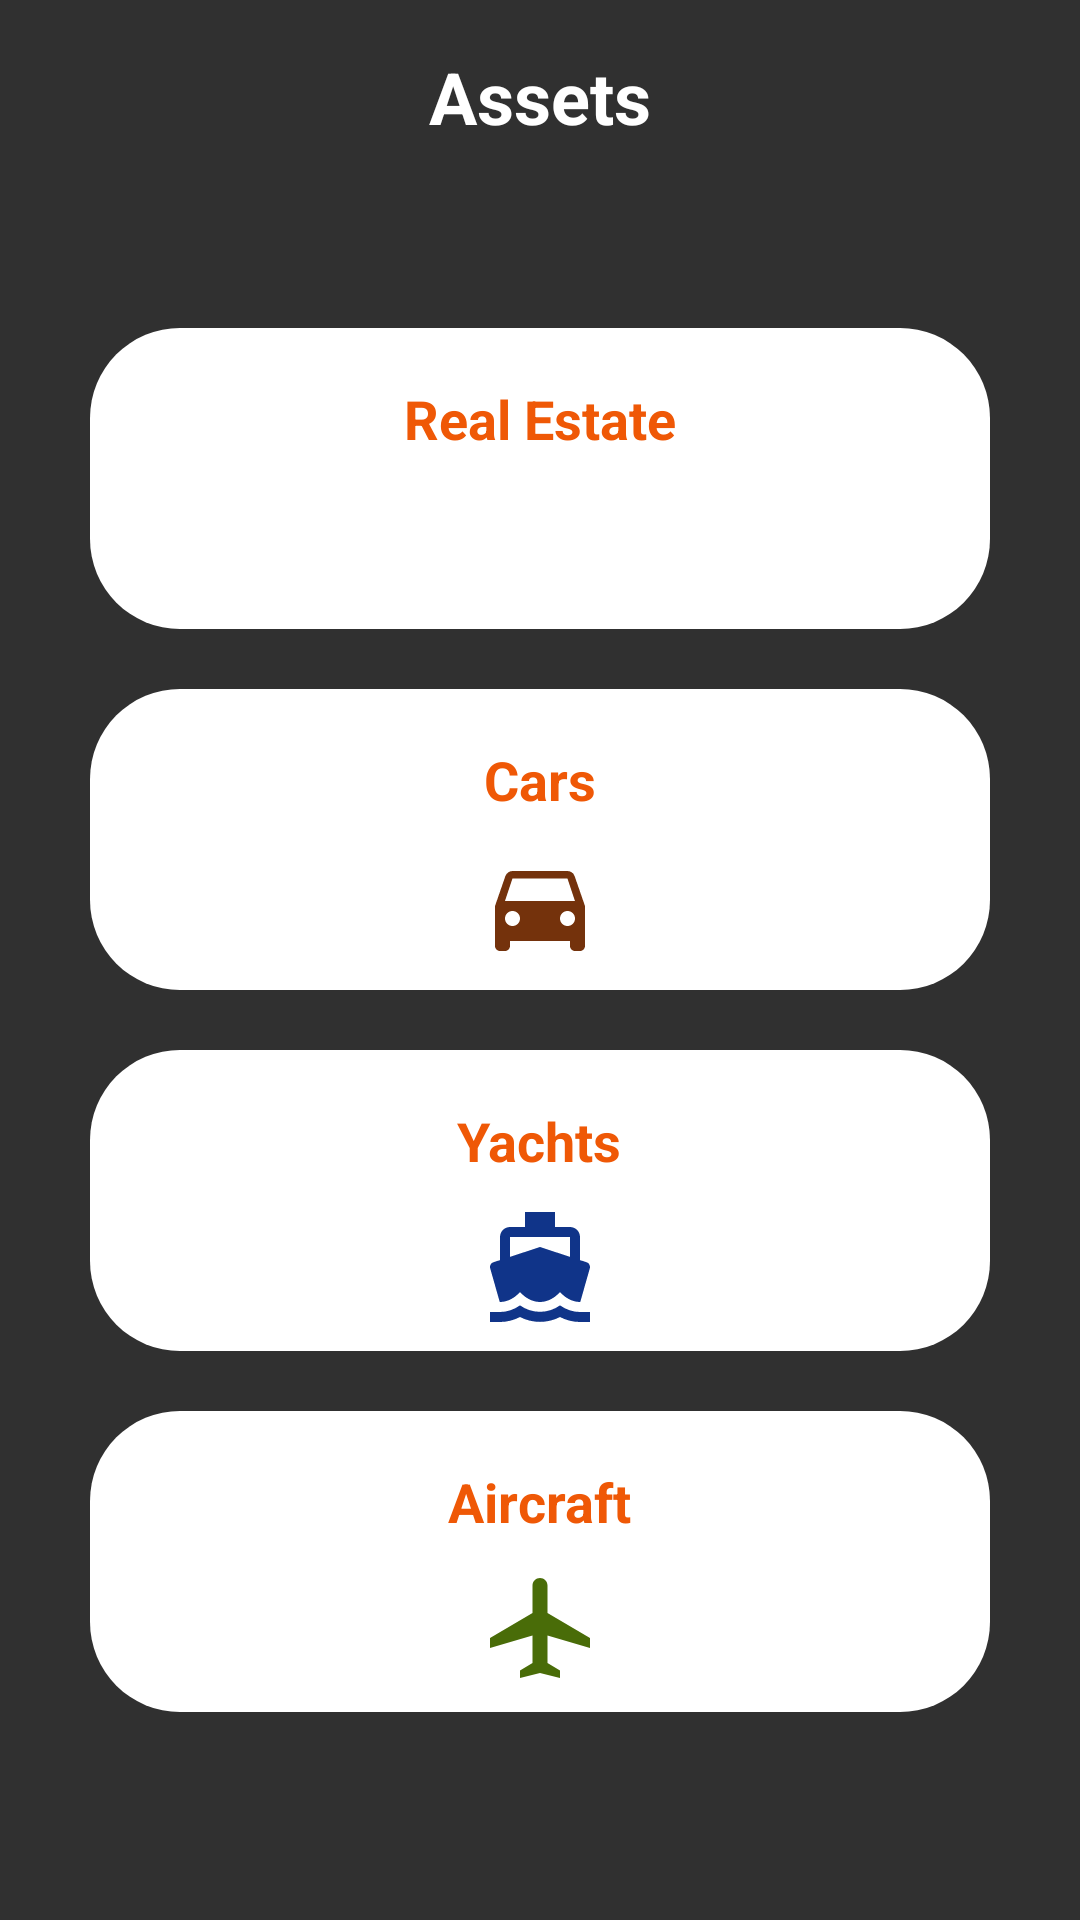

Icon click points for this 1080 × 1920 phone screenshot, format (x=x, y=y):
buy boat: (x=540, y=1267)
buy car: (x=540, y=911)
buy planes: (x=540, y=1628)
